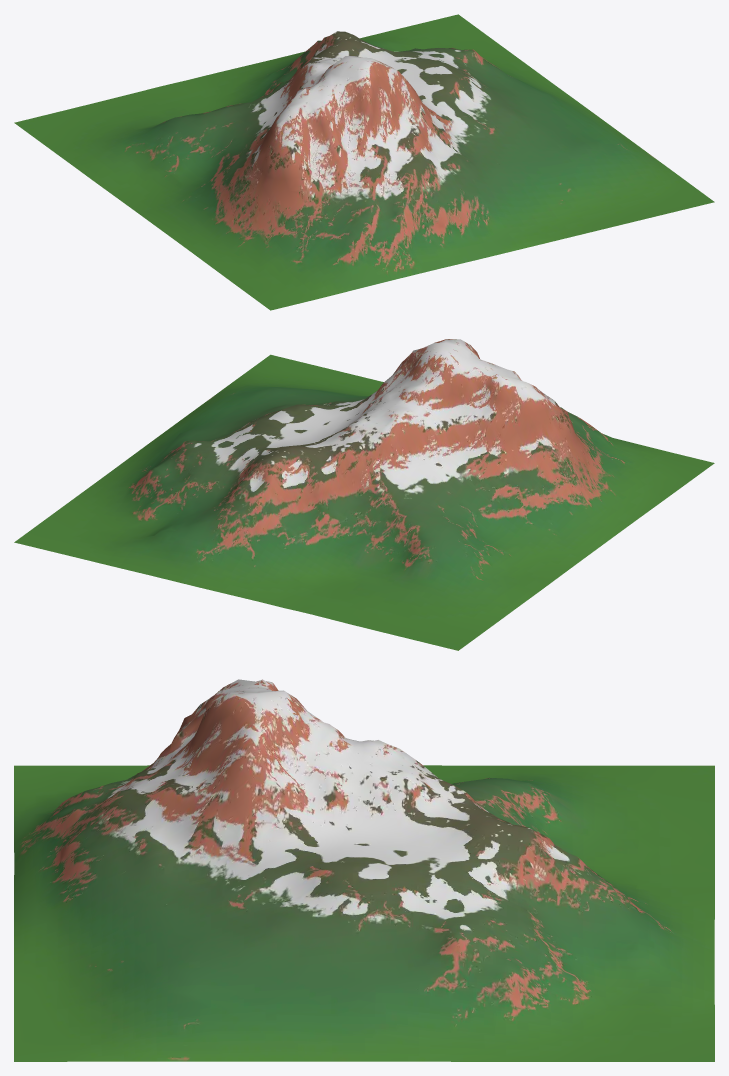
Rendered from Mountain_1.glb.
3 renders of one model, top to bottom at view 1: azimuth 30°, elevation 25°; view 2: azimuth 150°, elevation 25°; view 3: azimuth 270°, elevation 25°, orthographic. The views are drawn at different scales.
Visible parts, largest first — view 1: Mountain_1; view 2: Mountain_1; view 3: Mountain_1.
Part boxes in pixels (box(x1,y1,x2,y2)): Mountain_1: box(14, 14, 714, 310); Mountain_1: box(14, 339, 714, 650); Mountain_1: box(14, 679, 714, 1061).
Size of the model in its own units: 1051 by 318 by 1052.
1 material, 1 textured.
